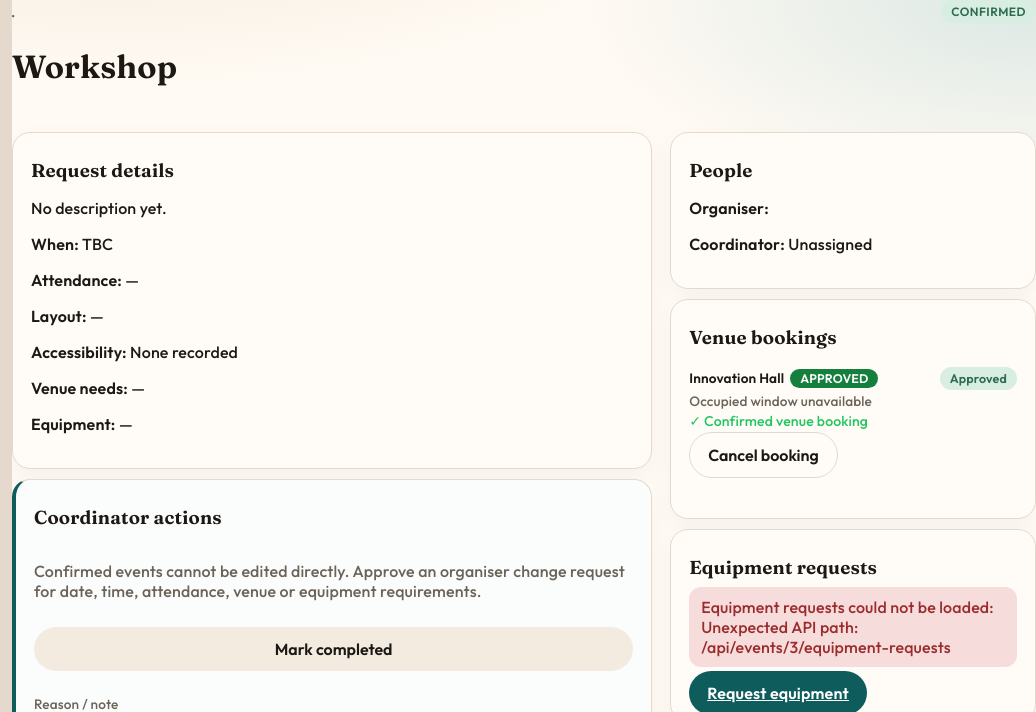
it: SCRUM-61 cancel booking action › displays Planning after cancelling a booking on a Confirmed event
Click the button "Cancel booking" at (764, 455), box left=689, top=432, right=838, bottom=478
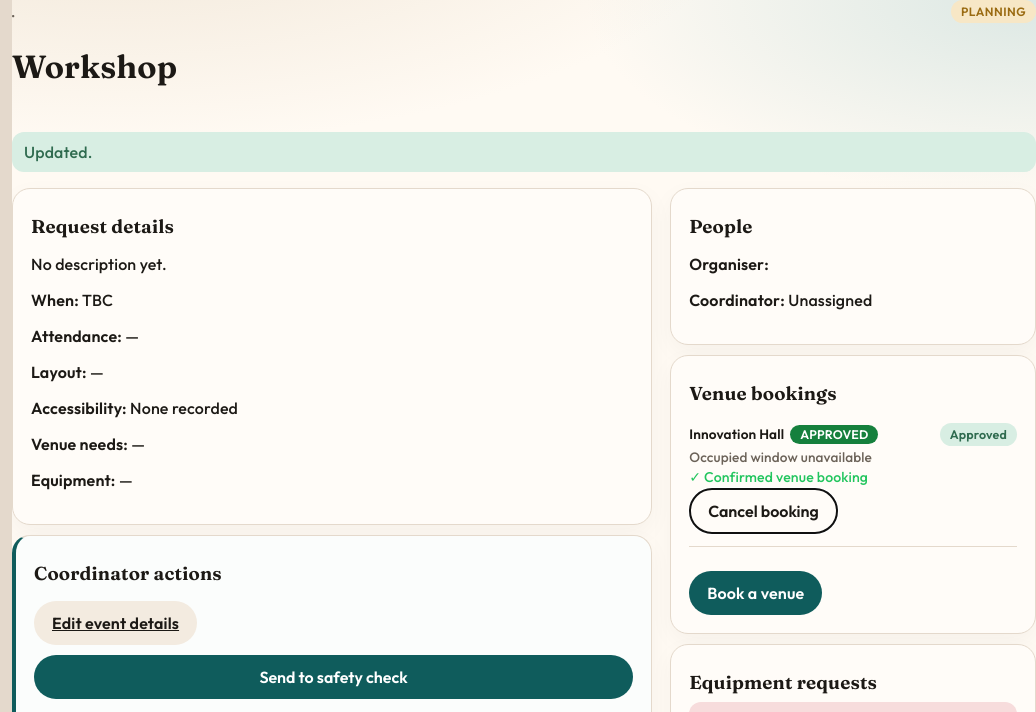
Expected: the text "Planning" is shown, left=951, top=0, right=1035, bottom=23
